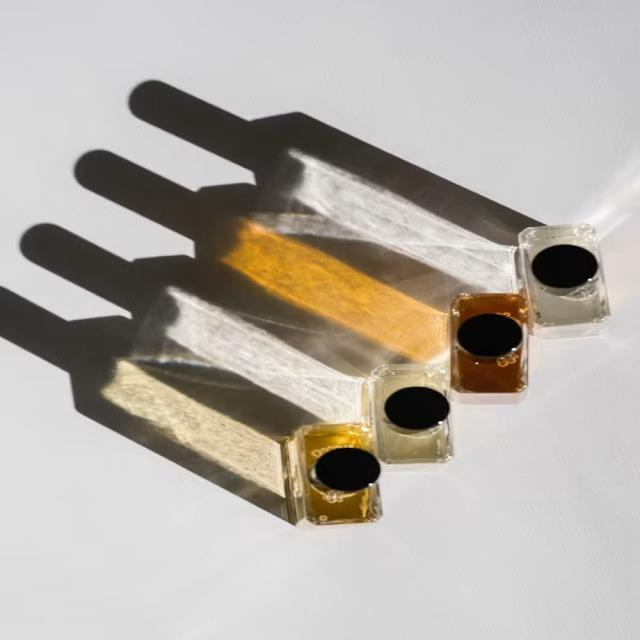Bottle: (519, 224, 610, 337), (286, 423, 381, 524), (364, 364, 452, 464), (451, 294, 527, 401)
